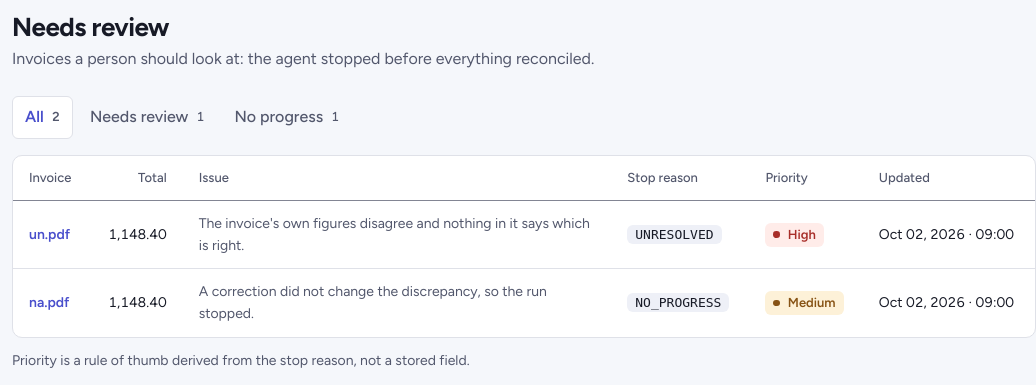
ReviewView › falls back to All when the selected stop reason disappears after a refresh
Click the tab "No progress 1" at (287, 117), box left=222, top=96, right=352, bottom=139
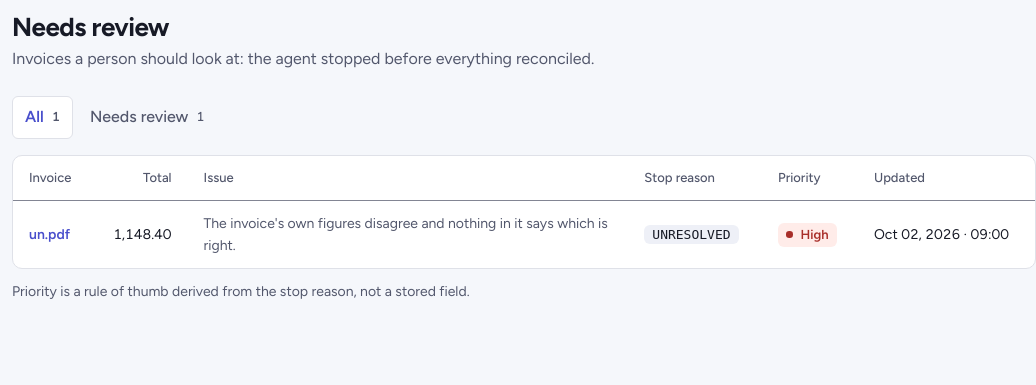
Now the tab "No progress" is gone
Now the number of rows is 2, box left=13, top=156, right=1035, bottom=200; left=13, top=200, right=1035, bottom=268
